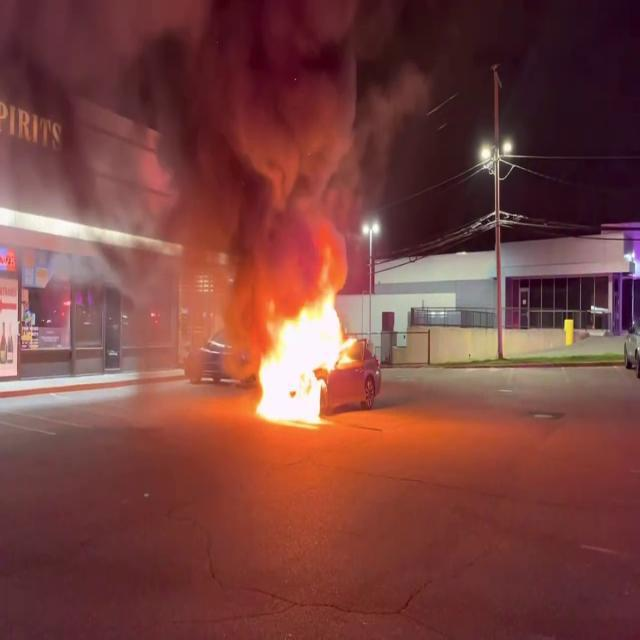Fire: (244, 278, 360, 428)
Smoke: (1, 0, 437, 286)
